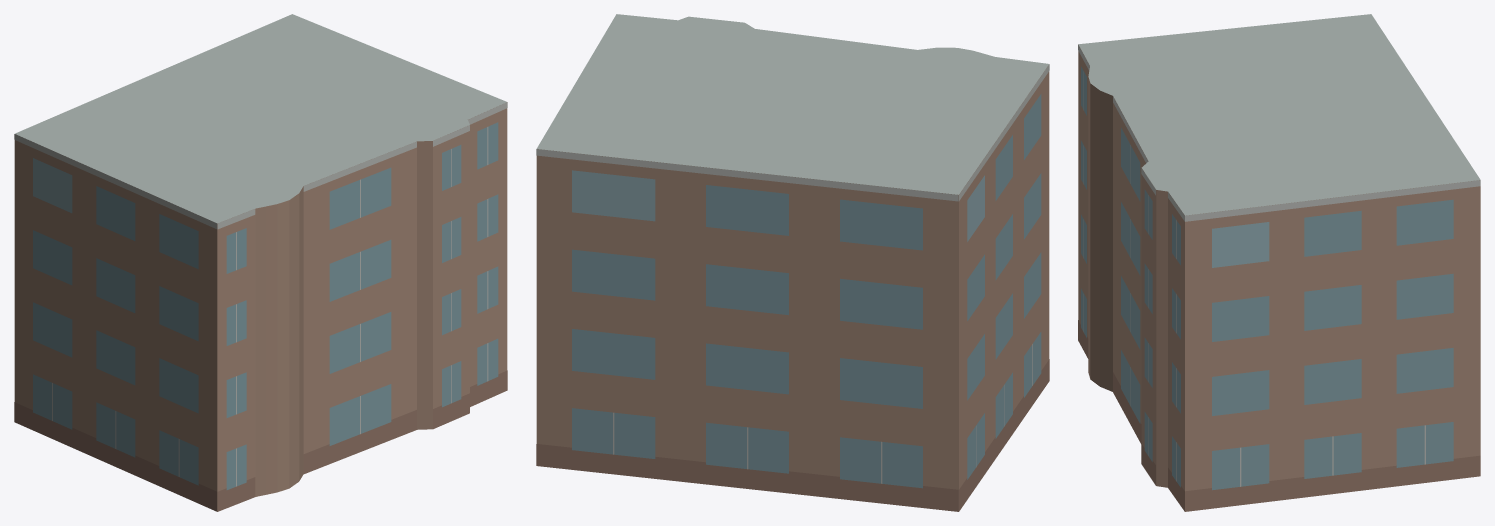
File: survey-upis-33027743.glb
3 renders of one model, left to right at view 1: azimuth 30°, elevation 25°; view 2: azimuth 150°, elevation 25°; view 3: azimuth 270°, elevation 25°, orthographic. The views are drawn at different scales.
Visible parts, largest first — view 1: survey-upis-33027743.tmp; view 2: survey-upis-33027743.tmp; view 3: survey-upis-33027743.tmp.
Boxes of the visible parts, left/top/right/bottom form: survey-upis-33027743.tmp: left=14, top=14, right=507, bottom=511; survey-upis-33027743.tmp: left=536, top=14, right=1049, bottom=511; survey-upis-33027743.tmp: left=1078, top=14, right=1480, bottom=511.
Size of the model in its own units: 16.94 by 11.6 by 14.29.
